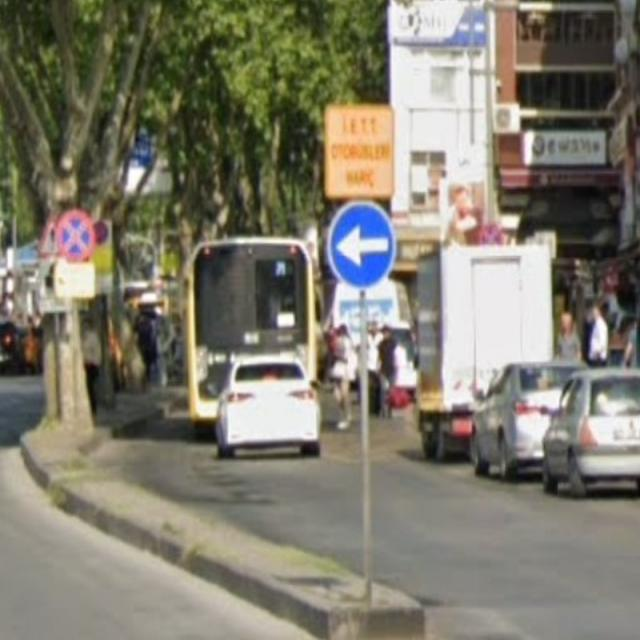Turn Left: (330, 200, 391, 292)
